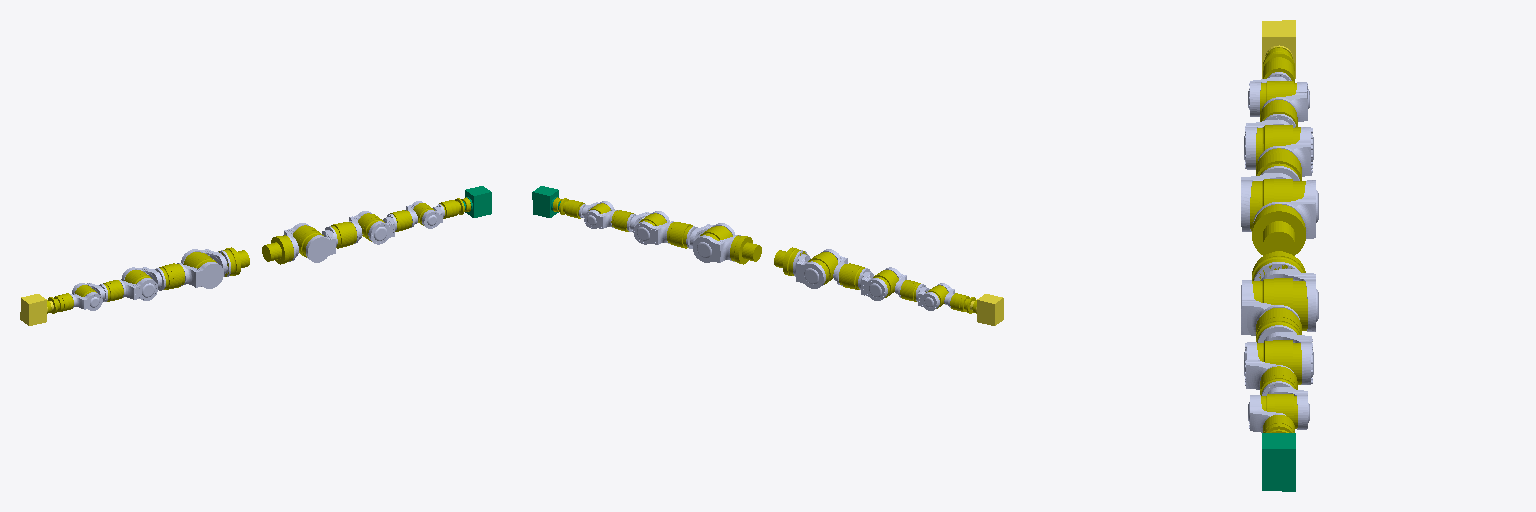
The robot description file, URDF, robot "Krang":
<?xml version="1.0" ?>
<!-- @file Krang.urdf -->
<!-- @author [author] -->
<!-- @date May 10, 2013 -->
<!-- @brief This file contains the .urdf definition for Krang. -->
<!-- NOTE: The center of mass locations are taken from the MassTable by summing up the -->
<!-- individual part values for the sections (which correspond to nodes here). -->
<!-- TODO: Set the center of mass locations -->
<!-- TODO: Set the correct masses. Note that the dae models have the brackets divided in two and -->
<!-- connected to the middle motor for which we do not have measurements. -->
<!-- NOTE: The bounding box values are taken by finding the min and max values of the dae files. -->

<robot name="Krang">

	<!-- Links -->
	<link name = "world"/>

	<!-- Finalized Inertial Parameters for Krang Base, Spine and Bracket -->

	<link name = "Base">
		<origin xyz=".1 0.3 .2" rpy="45 23 11"/>
    <inertial>
      <mass value="75.767"/>
      <inertia ixx="2.9427" ixy="0.0001" ixz="0.0037" iyy="2.4034" iyz="-0.0113" izz="1.2335"/>
      <origin xyz="-0.000628 0.001940 0.076721"/>
    </inertial>
		<visual>
			<geometry>
				<mesh filename="../scenes/base.dae" />
			</geometry>
		</visual>
		<collision> <origin xyz="0.00225 0.2097395 0.006300"/> <geometry> <box size="0.7165 0.71048 0.32860"/> </geometry> </collision>
	</link>

	<link name = "Spine">
    <inertial>
      <mass value="14.006"/>
      <inertia ixx="0.5601" ixy="0.0003" ixz="0.1548" iyy="0.53" iyz="-0.006" izz="0.2328"/>
      <origin xyz="-0.051222 0.000345 0.080526"/>
    </inertial>
		<visual> <geometry> <mesh filename="../scenes/spine.dae" /> </geometry> </visual>
		<collision> <origin xyz="-0.026 0.230150 0.053887"/> <geometry> <box size="0.2340 0.59430 0.24097"/> </geometry> </collision>
	</link>

	<link name = "Bracket">
    <inertial>
      <mass value="6.533"/>
      <inertia ixx="0.1003" ixy="0" ixz="0" iyy="0.0214" iyz="0" izz="0.0987"/>
      <origin xyz="0.0 0.076445 -0.005972"/>
    </inertial>
		<visual> <geometry> <mesh filename="../scenes/bracket.dae" /> </geometry> </visual>
		<collision> <origin xyz="0.0012875 0.0582 -0.0280530"/> <geometry> <box size="0.2815 0.23 0.22611"/> </geometry> </collision>
	</link>

	<link name = "Kinect">
    <inertial>
      <mass value="0.705"/>
      <inertia ixx="0.102019" ixy="2.45462e-05" ixz="0.00713022" iyy="0.0832724" iyz="-0.00131733" izz="0.086493"/>
      <origin xyz="0.0 -0.04 -0.028"/>
    </inertial>
		<visual> <geometry> <mesh filename="../scenes/Kinect/Kinect.dae" /> </geometry> </visual>
		<collision> <origin xyz="0.0 -0.0251 -0.0185"/> <geometry> <box size="0.28 0.07 0.063"/> </geometry> </collision>
	</link>

	<link name = "L1">
    <inertial>
			<mass value="7.35"/>
			<inertia ixx="0.0381" ixy="0.0104" ixz="0" iyy="0.0187" iyz="0" izz="0.0430"/>
			<origin xyz="0.0217 -0.0691 0"/>
    </inertial>
		<visual> <geometry> <mesh filename="../scenes/Schunk/L1.dae" /> </geometry> </visual>
		<collision> <origin xyz="0.015 -0.080866 0.0"/> <geometry> <box size="0.16 0.29367 0.13188"/> </geometry> </collision>
	</link>

	<link name = "L2">
    <inertial>
      	<mass value="6.1405"/>
      	<inertia ixx="0.0320" ixy="0.0097" ixz="0" iyy="0.0134" iyz="0" izz="0.0350"/>
				<origin xyz="0.0269 -0.0548 0"/>
    </inertial>
		<visual> <geometry> <mesh filename="../scenes/Schunk/L2.dae" /> </geometry> </visual>
		<collision> <origin xyz="0.017042 -0.058309 0.0"/> <geometry> <box size="0.14591 0.24658 0.13"/> </geometry> </collision>
	</link>

	<link name = "L3">
    <inertial>
      	<mass value="4.531"/>
      	<inertia ixx="0.0180" ixy="0.005" ixz="0" iyy="0.0084" iyz="0" izz="0.0204"/>
				<origin xyz="0.0188 -0.00619 0"/>
    </inertial>
		<visual> <geometry> <mesh filename="../scenes/Schunk/L3.dae" /> </geometry> </visual>
		<collision> <origin xyz="0.014000 -0.075113 0.0"/> <geometry> <box size="0.13800 0.26217 0.11189"/> </geometry> </collision>
	</link>

	<link name = "L4">
    <inertial>
      	<mass value="3.2245"/>
      	<inertia ixx="0.0133" ixy="0.004" ixz="0" iyy="0.0049" iyz="0" izz="0.0145"/>
				<origin xyz="0.0238 -0.0484 0"/>
    </inertial>
		<visual> <geometry> <mesh filename="../scenes/Schunk/L4.dae" /> </geometry> </visual>
		<collision> <origin xyz="0.018200 -0.052050 0.0"/> <geometry> <box size="0.12960 0.2141 0.11"/> </geometry> </collision>
	</link>

	<link name = "L5">
    <inertial>
      	<mass value="2.318"/>
      	<inertia ixx="0.0063" ixy="0.0017" ixz="0" iyy="0.0029" iyz="0" izz="0.0072"/>
				<origin xyz="0.0166 -0.0494 0"/>
    </inertial>
		<visual> <geometry> <mesh filename="../scenes/Schunk/L5.dae" /> </geometry> </visual>
		<collision> <origin xyz="0.0145115 -0.0571105 0.0000425"/> <geometry> <box size="0.117977 0.204179 0.089915"/> </geometry> </collision>
	</link>

	<link name = "L6">
    <inertial>
      	<mass value="2.318"/>
      	<inertia ixx="0.0071" ixy="0.0020" ixz="0" iyy="0.0029" iyz="0" izz="0.008"/>
				<origin xyz="0.0232 -0.0377 0"/>
    </inertial>
		<visual> <geometry> <mesh filename="../scenes/Schunk/L6.dae" /> </geometry> </visual>
		<collision> <origin xyz="0.0175015 -0.0481615 0.0"/> <geometry> <box size="0.111977 0.185277 0.089"/> </geometry> </collision>
	</link>

	<link name = "lGripper">
	    <inertial>
				<mass value="2.3838"/>
				<inertia ixx="0.0104" ixy="0" ixz="0" iyy="0.0108" iyz="0" izz="0.0027"/>
				<!-- An addition of 4.05 cms from the end of Schunk gripper to space between two halves of ft -->
	      <origin xyz="0 0 0.1055"/>
	    </inertial>
		<visual>
			<geometry>
				<mesh filename="../scenes/Schunk/L7.dae" />
			</geometry>
			<!-- <origin rpy="0 0 1.0"/>  -->
		</visual>
		<collision>
			<origin xyz="0.0 -0.0 -0.02615" rpy="0.0 0.0 1.5708"/>
			<geometry>
				<box size="0.08 0.112 0.2025"/>
			</geometry>
		</collision>
	</link>

	<!-- RIGHT ARM LINKS -->
	<link name = "R1">
    <inertial>
			<mass value="7.35"/>
			<inertia ixx="0.0381" ixy="0.0104" ixz="0" iyy="0.0187" iyz="0" izz="0.0430"/>
			<origin xyz="0.0217 -0.0691 0"/>
    </inertial>
		<visual> <geometry> <mesh filename="../scenes/Schunk/L1.dae" /> </geometry> </visual>
		<collision> <origin xyz="0.015 -0.080866 0.0"/> <geometry> <box size="0.16 0.29367 0.13188"/> </geometry> </collision>
	</link>

	<link name = "R2">
    <inertial>
      	<mass value="6.1405"/>
      	<inertia ixx="0.0320" ixy="0.0097" ixz="0" iyy="0.0134" iyz="0" izz="0.0350"/>
				<origin xyz="0.0269 -0.0548 0"/>
    </inertial>
		<visual> <geometry> <mesh filename="../scenes/Schunk/L2.dae" /> </geometry> </visual>
		<collision> <origin xyz="0.017042 -0.058309 0.0"/> <geometry> <box size="0.14591 0.24658 0.13"/> </geometry> </collision>
	</link>

	<link name = "R3">
    <inertial>
      	<mass value="4.531"/>
      	<inertia ixx="0.0180" ixy="0.005" ixz="0" iyy="0.0084" iyz="0" izz="0.0204"/>
				<origin xyz="0.0188 -0.00619 0"/>
    </inertial>
		<visual> <geometry> <mesh filename="../scenes/Schunk/L3.dae" /> </geometry> </visual>
		<collision> <origin xyz="0.014000 -0.075113 0.0"/> <geometry> <box size="0.13800 0.26217 0.11189"/> </geometry> </collision>
	</link>

	<link name = "R4">
    <inertial>
      	<mass value="3.2245"/>
      	<inertia ixx="0.0133" ixy="0.004" ixz="0" iyy="0.0049" iyz="0" izz="0.0145"/>
				<origin xyz="0.0238 -0.0484 0"/>
    </inertial>
		<visual> <geometry> <mesh filename="../scenes/Schunk/L4.dae" /> </geometry> </visual>
		<collision> <origin xyz="0.018200 -0.052050 0.0"/> <geometry> <box size="0.12960 0.2141 0.11"/> </geometry> </collision>
	</link>

	<link name = "R5">
    <inertial>
      	<mass value="2.318"/>
      	<inertia ixx="0.0063" ixy="0.0017" ixz="0" iyy="0.0029" iyz="0" izz="0.0072"/>
				<origin xyz="0.0166 -0.0494 0"/>
    </inertial>
		<visual> <geometry> <mesh filename="../scenes/Schunk/L5.dae" /> </geometry> </visual>
		<collision> <origin xyz="0.0145115 -0.0571105 0.0000425"/> <geometry> <box size="0.117977 0.204179 0.089915"/> </geometry> </collision>
	</link>

	<link name = "R6">
    <inertial>
      	<mass value="2.318"/>
      	<inertia ixx="0.0071" ixy="0.0020" ixz="0" iyy="0.0029" iyz="0" izz="0.008"/>
				<origin xyz="0.0232 -0.0377 0"/>
    </inertial>
		<visual> <geometry> <mesh filename="../scenes/Schunk/L6.dae" /> </geometry> </visual>
		<collision> <origin xyz="0.0175015 -0.0481615 0.0"/> <geometry> <box size="0.111977 0.185277 0.089"/> </geometry> </collision>
	</link>

	<link name = "rGripper">
    <inertial>
     	<mass value="2.3838"/>
			<inertia ixx="0.0104" ixy="0" ixz="0" iyy="0.0108" iyz="0" izz="0.0027"/>
			<!-- An addition of 4.05 cms from the end of Schunk gripper to space between two halves of ft -->
      <origin xyz="0 0 0.1055"/>
    </inertial>
		<visual> <geometry> <mesh filename="../scenes/Schunk/L7.dae" /> </geometry> </visual>
		<collision> <origin xyz="0.0 -0.0 0.02615" rpy="0.0 0.0 1.5708"/> <geometry> <box size="0.08 0.112 0.2025"/> </geometry> </collision>
	</link>


	<!-- ======================================================================================================== -->
	<!-- ============================================ Joints ==================================================== -->
	<!-- ======================================================================================================== -->

	<!-- Creating two arbitrary joints to fix the base in place -->
	<joint name="fix_base_to_world" type="fixed"> 
		<parent link="world" /> 
		<child link="Base" />
	</joint>

	<joint name="JWaist" type="revolute"> <parent link="Base" /> <child link="Spine" />
		<origin xyz = "0.026 0.499 -0.091" rpy="0 0 0" />
		<axis xyz="-1 0 0" /> <limit effort="1000" lower="0" upper="2.7" velocity="0.1" />
	</joint>

	<joint name="JTorso" type="revolute"> <parent link="Spine" /> <child link="Bracket" />
		<origin xyz = "-0.0285 0.584 0.1088" rpy="0 3.1416 0" />
		<axis xyz="0 -1 0" /> <limit effort="1000" lower="-0.8" upper="0.8" velocity="0.1" />
	</joint>

	<joint name="JKinect" type="revolute"> <parent link="Bracket" /> <child link="Kinect" />
		<origin xyz = "-0.001 0.1805 -0.1120" rpy="3.1416 0 0" />
		<axis xyz="1 0 0" /> <limit effort="1000" lower="-3.1416" upper="3.1416" velocity="0.1" />
	</joint>

		<!-- =================== Left Arm =================== -->
		<!-- ================================================ -->

	<joint name="LJ1" type="revolute"> <parent link="Bracket" /> <child link="L1" />
		<origin xyz = "0.2823 0.0845 0" rpy="0 3.1416 -1.5708" />
		<axis xyz="0 -1 0" /> <limit effort="1000" lower="-3.1416" upper="3.1416" velocity="0.1" />
	</joint>

	<joint name="LJ2" type="revolute"> <parent link="L1" /> <child link="L2" />
		<origin xyz="0 0.0 0" rpy="3.14 3.14 0" />
		<axis xyz="-1 0 0" /> <limit effort="1000" lower="-2.094" upper="2.094" velocity="0.1" />
	</joint>

	<joint name="LJ3" type="revolute"> <parent link="L2" /> <child link="L3" />
		<origin xyz="0 -0.328 0" rpy="-3.1416 -3.1416 0" />
		<axis xyz="0 -1 0" /> <limit effort="1000" lower="-4.7124" upper="4.7124" velocity="0.1" />
	</joint>

	<joint name="LJ4" type="revolute"> <parent link="L3" /> <child link="L4" />
		<origin xyz="0 0 0" rpy="3.1416 3.1416 0" />
		<axis xyz="-1 0 0" /> <limit effort="1000" lower="-2.094" upper="2.094" velocity="0.1" />
	</joint>

	<joint name="LJ5" type="revolute"> <parent link="L4" /> <child link="L5" />
		<origin xyz="0 -0.2765 0" rpy="3.1416 3.1416 0" />
		<axis xyz="0 -1 0" /> <limit effort="1000" lower="-4.7124" upper="4.7124" velocity="0.1" />
	</joint>

	<joint name="LJ6" type="revolute"> <parent link="L5" /> <child link="L6" />
		<origin xyz="0 0 0" rpy="0 0 3.1416" />
		<axis xyz="-1 0 0" /> <limit effort="1000" lower="-2.094" upper="2.094" velocity="0.1" />
	</joint>

	<!-- For some reason, I had to negate the axis to make sure the motor turns like the others -->
	<joint name="LJFT" type="revolute"> <parent link="L6" /> <child link="lGripper" />
		<origin xyz="0 -0.200 0" rpy="1.5708 4.7124 0" />
		<axis xyz="0 0 -1" /> <limit effort="1000" lower="-4.7124" upper="4.7124" velocity="0.1" />
	</joint>

	<!-- =================== Right Arm ================== -->
	<!-- ================================================ -->

	<joint name="RJ1" type="revolute"> <parent link="Bracket" /> <child link="R1" />
		<origin xyz = "-0.2823 0.0845 0" rpy="0 0 1.5708" />
		<axis xyz="0 -1 0" /> <limit effort="1000" lower="-4.7124" upper="4.7124" velocity="0.1" />
	</joint>

	<joint name="RJ2" type="revolute"> <parent link="R1" /> <child link="R2" />
		<origin xyz="0 0.0 0" rpy="3.14 3.14 0" />
		<axis xyz="-1 0 0" /> <limit effort="1000" lower="-2.094" upper="2.094" velocity="0.1" />
	</joint>

	<joint name="RJ3" type="revolute"> <parent link="R2" /> <child link="R3" />
		<origin xyz="0 -0.328 0" rpy="-3.1416 -3.1416 0" />
		<axis xyz="0 -1 0" /> <limit effort="1000" lower="-4.7124" upper="4.7124" velocity="0.1" />
	</joint>

	<joint name="RJ4" type="revolute"> <parent link="R3" /> <child link="R4" />
		<origin xyz="0 0 0" rpy="-3.1416 3.1416 0" />
		<axis xyz="-1 0 0" /> <limit effort="1000" lower="-2.094" upper="2.094" velocity="0.1" />
	</joint>

	<joint name="RJ5" type="revolute"> <parent link="R4" /> <child link="R5" />
		<origin xyz="0 -0.2765 0" rpy="3.1416 3.1416 0" />
		<axis xyz="0 -1 0" /> <limit effort="1000" lower="-4.7124" upper="4.7124" velocity="0.1" />
	</joint>

	<joint name="RJ6" type="revolute"> <parent link="R5" /> <child link="R6" />
		<origin xyz="0 0 0" rpy="0 0 3.1416" />
		<axis xyz="-1 0 0" /> <limit effort="1000" lower="-2.094" upper="2.094" velocity="0.1" />
	</joint>

	<joint name="RJFT" type="revolute"> <parent link="R6" /> <child link="rGripper" />
		<origin xyz="0 -0.200 0" rpy="1.5708 4.7124 0" />
		<axis xyz="0 0 -1" /> <limit effort="1000" lower="-4.7124" upper="4.7124" velocity="0.1" />
	</joint>

</robot>

--- Render facts (derived) ---
The picture shows the robot from 3 angles, left to right: view 1: azimuth 30°, elevation 25°; view 2: azimuth 150°, elevation 25°; view 3: azimuth 270°, elevation 25°; orthographic projection.
Robot: Krang — 19 links, 18 joints (17 revolute, 1 fixed); root link world; default pose: all joints at 0.
Visible links, largest first — view 1: R2, L2, R1, L1, lGripper, R4, rGripper, L4, L3, R6, L6; view 2: R1, L1, L3, lGripper, R3, rGripper, R2, L5, R5, L2, R4; view 3: L1, R1, R3, L2, rGripper, R2, L4, R5, L3, lGripper, R4, L6 (+2 smaller).
Boxes of the visible links, box(x1,y1,x2,y2) form: R2: box(299, 223, 349, 262); L2: box(165, 257, 223, 288); R1: box(262, 223, 318, 264); L1: box(181, 247, 249, 276); lGripper: box(20, 294, 63, 325); R4: box(363, 211, 406, 244); rGripper: box(451, 186, 491, 217); L4: box(109, 274, 157, 300); L3: box(121, 266, 173, 290); R6: box(418, 200, 455, 228); L6: box(59, 289, 102, 311); R1: box(693, 228, 761, 264); L1: box(774, 247, 834, 288); L3: box(850, 266, 895, 300); lGripper: box(960, 294, 1003, 325); R3: box(633, 215, 680, 245); rGripper: box(532, 186, 572, 217); R2: box(674, 223, 734, 248); L5: box(910, 282, 945, 310); R5: box(584, 205, 621, 228); L2: box(818, 249, 858, 288); R4: box(617, 211, 669, 231); L1: box(1252, 179, 1318, 255); R1: box(1252, 251, 1318, 331); R3: box(1256, 317, 1313, 384); L2: box(1241, 153, 1301, 231); rGripper: box(1262, 423, 1295, 491); R2: box(1241, 279, 1301, 335); L4: box(1244, 103, 1297, 169); R5: box(1260, 375, 1309, 429); L3: box(1256, 125, 1313, 176); lGripper: box(1262, 20, 1295, 78); R4: box(1244, 341, 1297, 390); L6: box(1248, 60, 1294, 116).
Size in the robot's own frame: 2.43 by 0.1851 by 0.132 metres.
14 mesh visuals loaded from 11 distinct referenced files (7 Collada DAE); not drawn: 1 (reference not matched to a file when rendering), 3 (file found but could not be loaded).